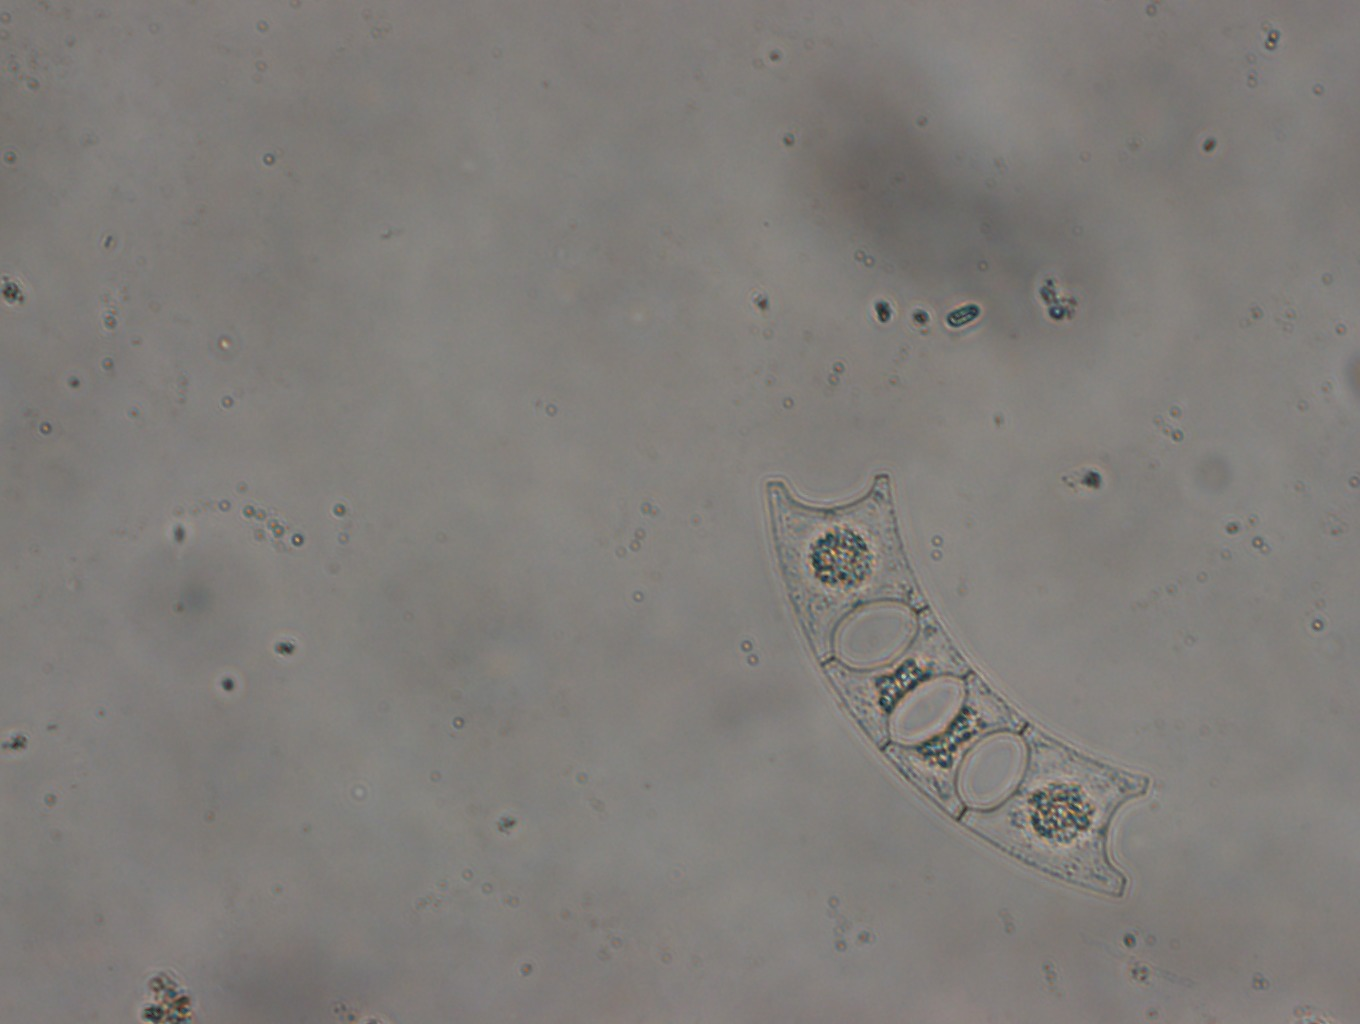eucampia: (765, 467, 1155, 904)
